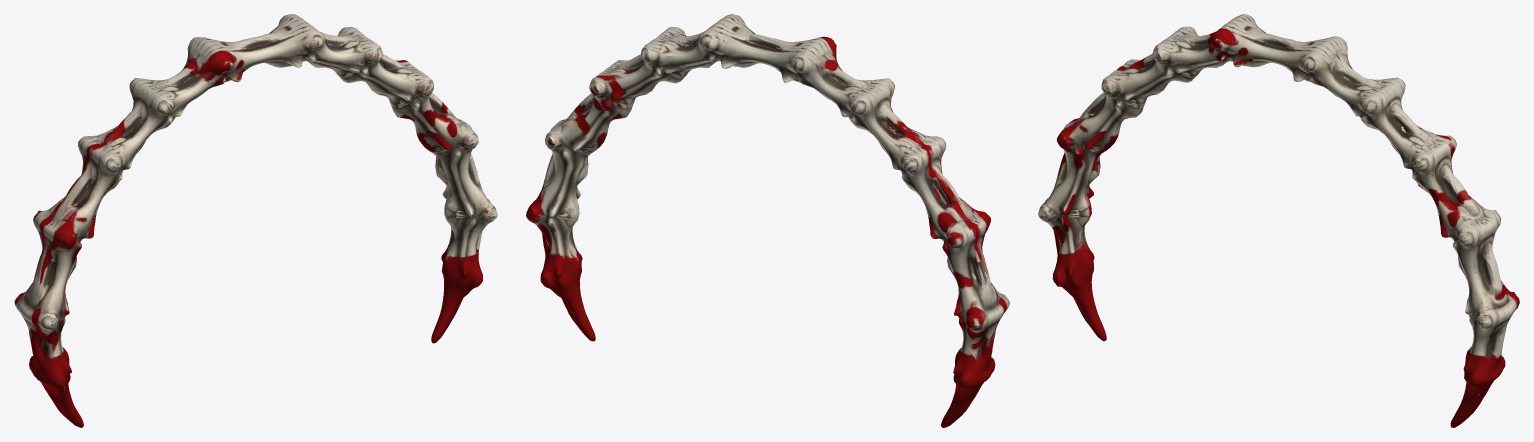
File: bonearch.glb
3 renders of one model, left to right at view 1: azimuth 30°, elevation 25°; view 2: azimuth 150°, elevation 25°; view 3: azimuth 330°, elevation 25°, orthographic.
Visible parts, largest first — view 1: Mesh0; view 2: Mesh0; view 3: Mesh0.
Part boxes in pixels (left/top/right/bottom): Mesh0: left=14, top=14, right=497, bottom=427; Mesh0: left=526, top=14, right=1009, bottom=427; Mesh0: left=1038, top=14, right=1519, bottom=427.
Bounding box in the file's own units: 1.91 × 1.39 × 0.253.
Materials: 1 (1 with a texture image).
